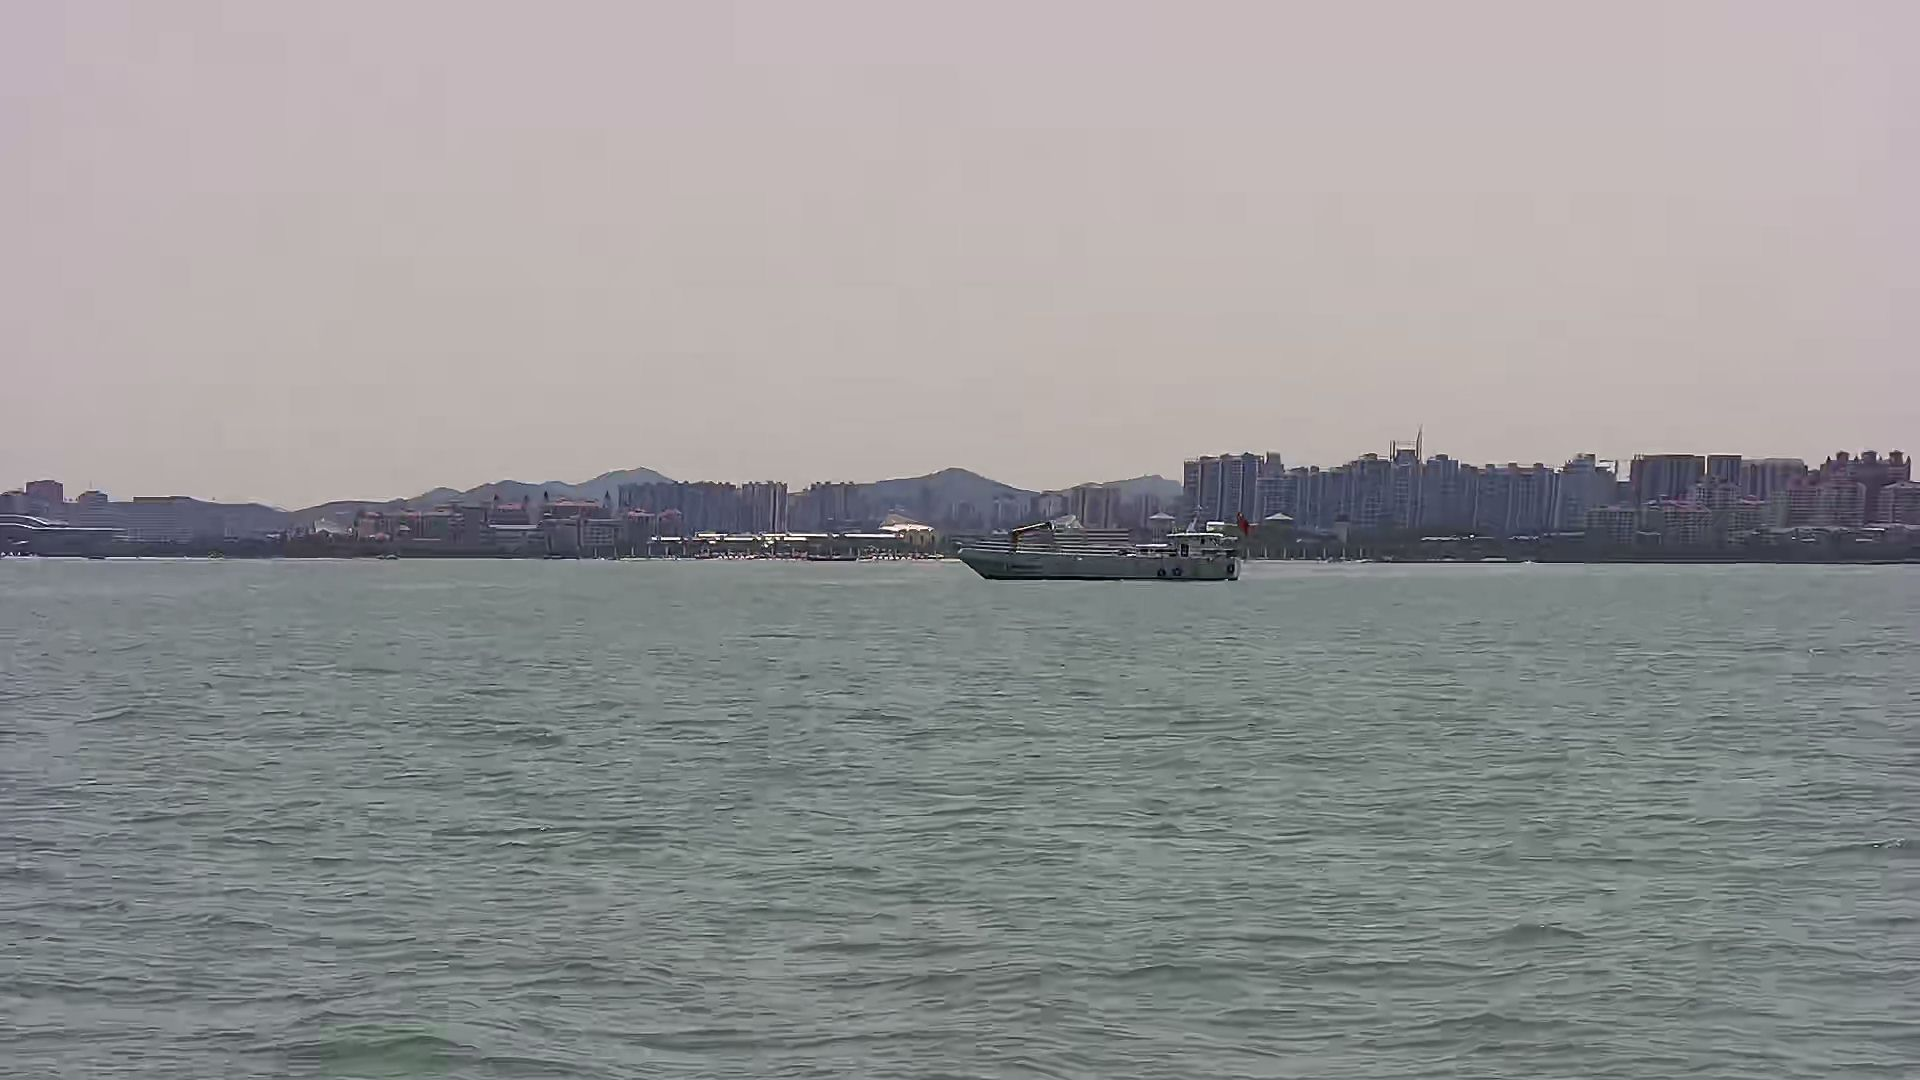ship: (956, 497, 1249, 583)
